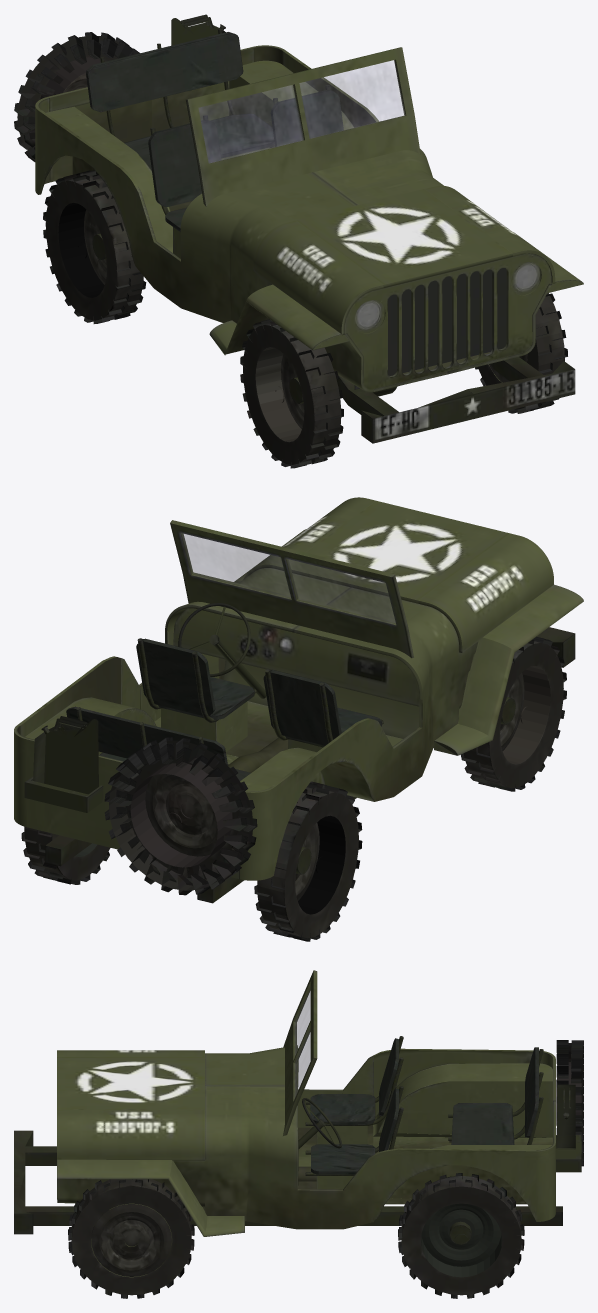
File: jeep-willys-50fae7.glb
3 views of the same model, one above another, from view 1: azimuth 30°, elevation 25°; view 2: azimuth 150°, elevation 25°; view 3: azimuth 270°, elevation 25° (orthographic). The views are drawn at different scales.
Visible parts, largest first — view 1: body, wheel-back-right, wheel-front-right, wheel-front-left; view 2: body, wheel-back-right, wheel-front-right, wheel-back-left; view 3: body, wheel-back-left, wheel-front-left.
Boxes of the visible parts, bbox=[...] form: body: bbox=[14, 14, 583, 443]; wheel-back-right: bbox=[15, 125, 146, 323]; wheel-front-right: bbox=[240, 319, 343, 468]; wheel-front-left: bbox=[475, 293, 567, 413]; body: bbox=[14, 497, 583, 913]; wheel-back-right: bbox=[138, 781, 362, 941]; wheel-front-right: bbox=[461, 636, 566, 791]; wheel-back-left: bbox=[21, 826, 110, 884]; body: bbox=[14, 970, 583, 1276]; wheel-back-left: bbox=[398, 1173, 524, 1298]; wheel-front-left: bbox=[68, 1179, 194, 1298].
Size of the model in its own units: 1.35 by 1.33 by 2.95.
6 materials, 6 textured.
